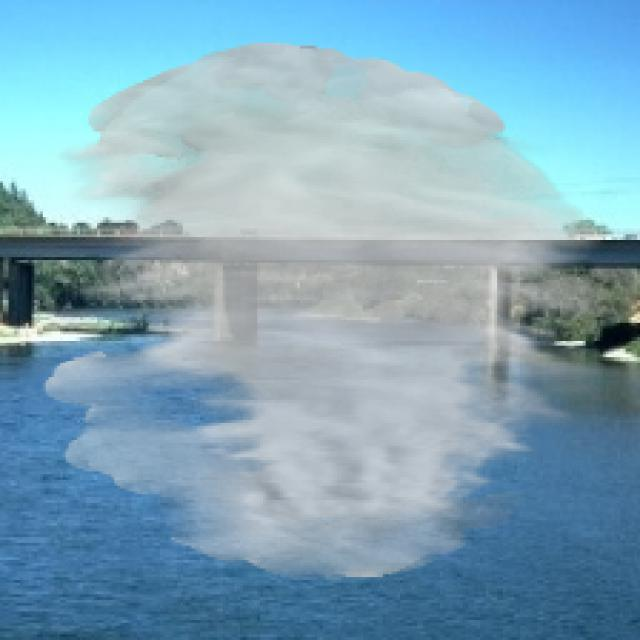Smoke: (42, 43, 608, 580)
